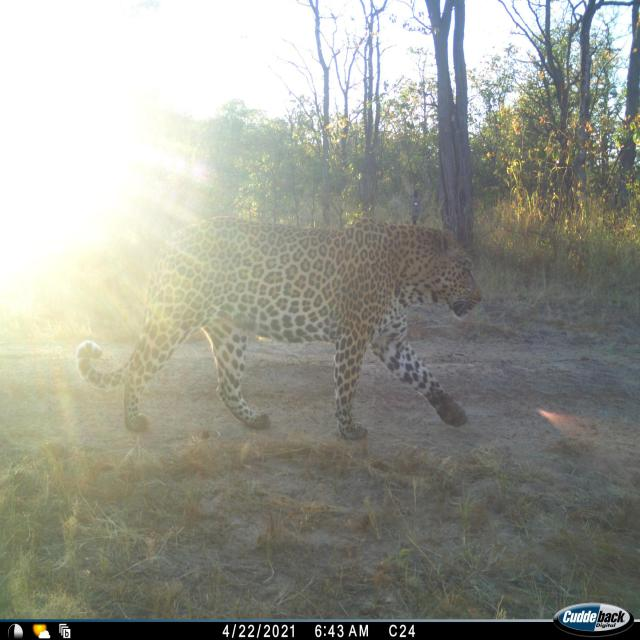Leopard: (76, 176, 487, 462)
